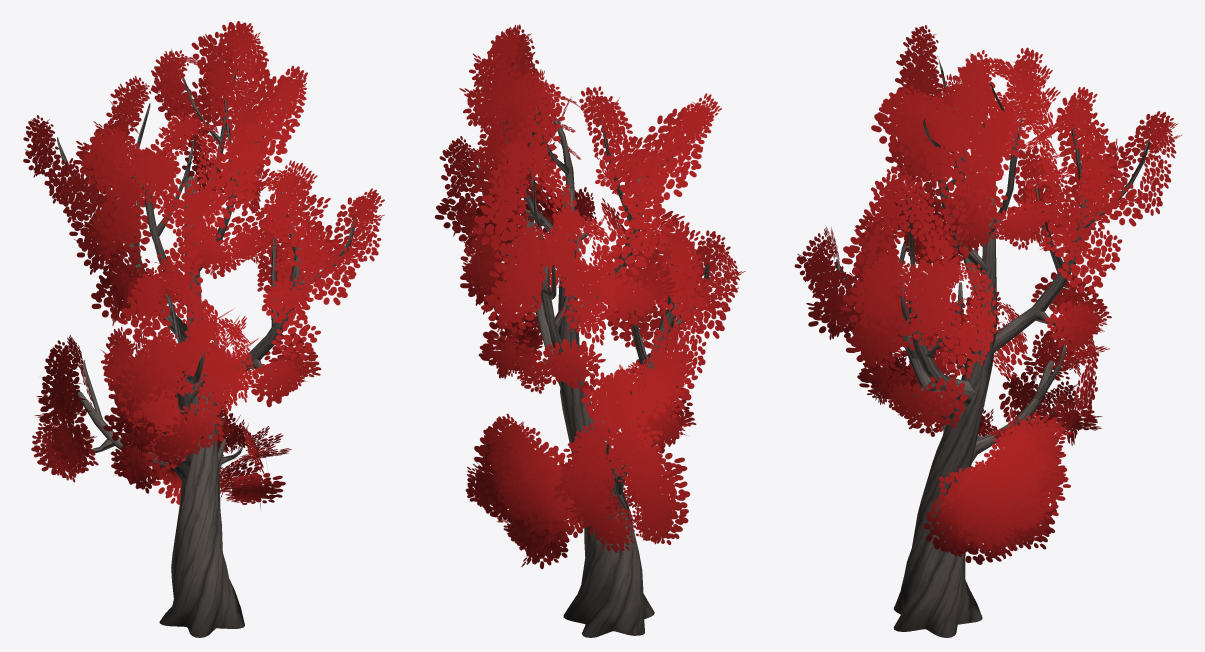
File: twisted-tree-2.glb
3 renders of one model, left to right at view 1: azimuth 30°, elevation 25°; view 2: azimuth 150°, elevation 25°; view 3: azimuth 270°, elevation 25°, orthographic. The views are drawn at different scales.
Parts seen in each view (by area): view 1: TwistedTree_4; view 2: TwistedTree_4; view 3: TwistedTree_4.
Boxes of the visible parts, x1,y1,x2,y2 form: TwistedTree_4: (23, 21, 384, 637); TwistedTree_4: (435, 24, 745, 637); TwistedTree_4: (794, 25, 1181, 637).
Size of the model in its own units: 10.38 by 18.74 by 11.29.
2 materials, 2 textured.
